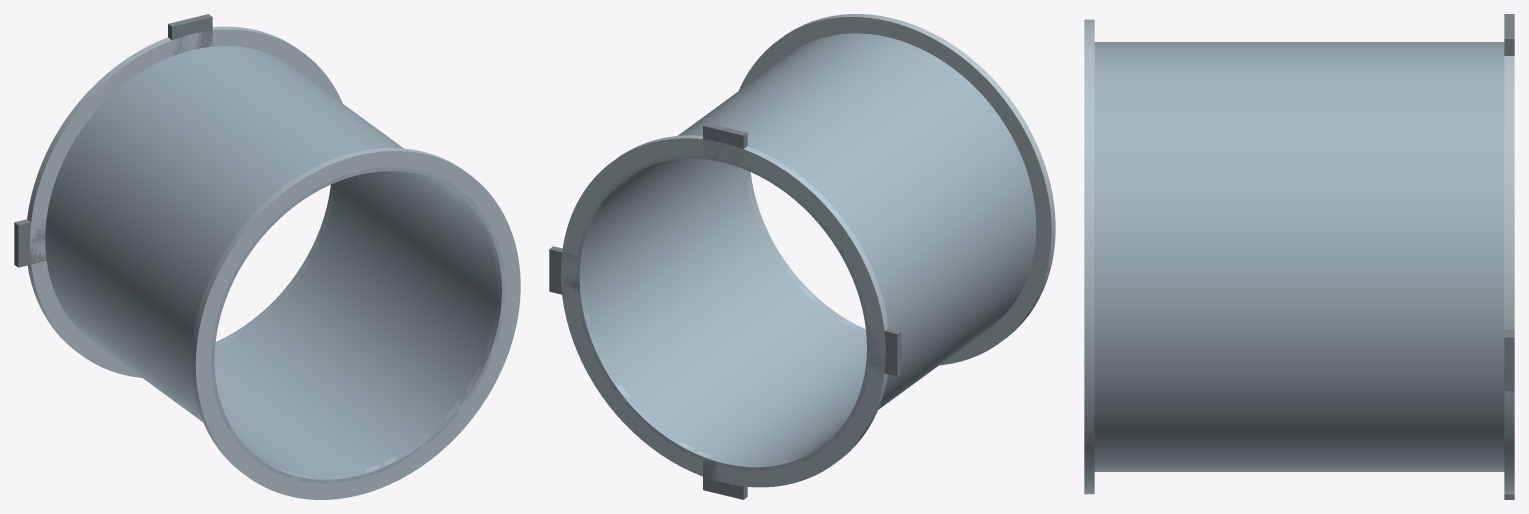
3 renders of one model, left to right at view 1: azimuth 30°, elevation 25°; view 2: azimuth 150°, elevation 25°; view 3: azimuth 270°, elevation 25°, orthographic. The views are drawn at different scales.
Visible parts, largest first — view 1: 本体_直筒段, 本体_端缘, 托耳_支墩安装板2, 托耳_支墩安装板3; view 2: 本体_直筒段, 本体_端缘, 托耳_支墩安装板2, 托耳_支墩安装板3, 托耳_支墩安装板4, 托耳_支墩安装板1; view 3: 本体_直筒段, 本体_端缘, 托耳_支墩安装板1.
Boxes of the visible parts, x1,y1,x2,y2 form: 本体_直筒段: (45,46,505,483); 本体_端缘: (27,26,520,499); 托耳_支墩安装板2: (14,219,46,267); 托耳_支墩安装板3: (168,14,212,55); 本体_直筒段: (576,33,1036,470); 本体_端缘: (560,14,1055,487); 托耳_支墩安装板2: (867,328,901,376); 托耳_支墩安装板3: (703,123,747,164); 托耳_支墩安装板4: (703,459,747,499); 托耳_支墩安装板1: (549,246,579,295); 本体_直筒段: (1094,42,1504,471); 本体_端缘: (1084,19,1514,494); 托耳_支墩安装板1: (1504,329,1514,391).
Bounding box in the file's own units: 1.18 × 1.18 × 1.
